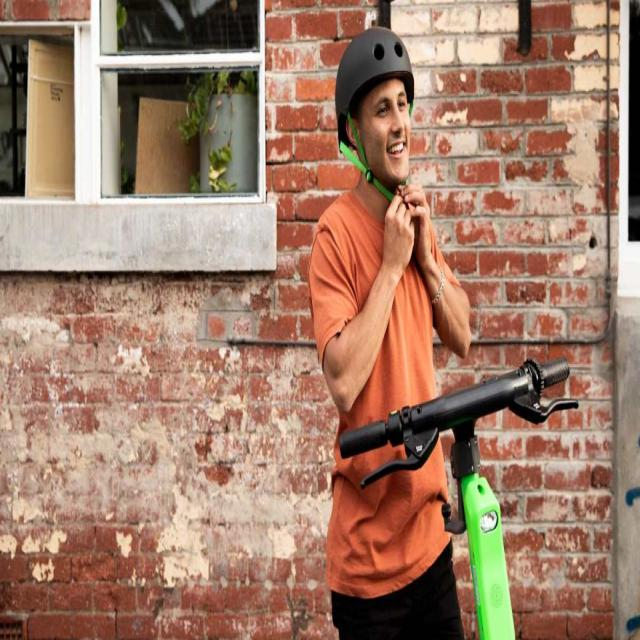helmet: (281, 3, 544, 640)
